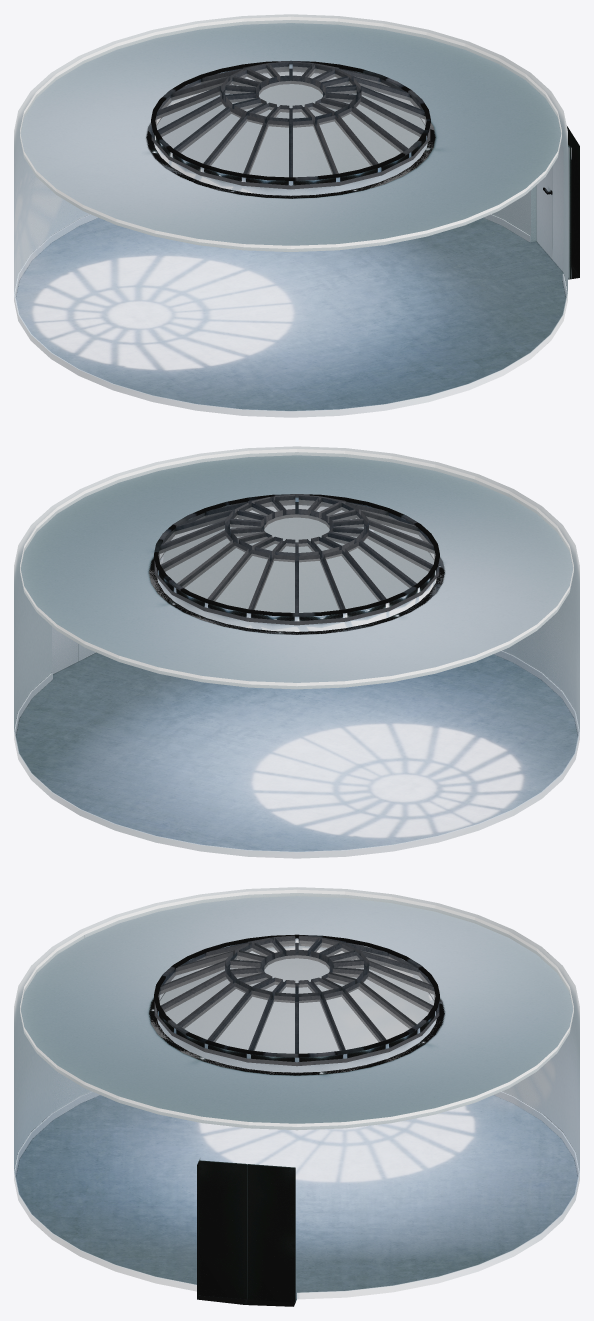
3 views of the same model, one above another, from view 1: azimuth 30°, elevation 25°; view 2: azimuth 150°, elevation 25°; view 3: azimuth 270°, elevation 25° (orthographic). The views are drawn at different scales.
Visible parts, largest first — view 1: floor_L1 Concrete Floor 1_0, celling_08 - Default_0, walls_IntPaintMatte Papyrus White_0, window_frame_Worn Pocedural 3_0, glass_Glass Fluorite Crown 5_0, walls_PVC FoamBoard White_A_0, Object006_light_0, walls_PVC FoamBoard White_0, Object105_Worn Pocedural 3_0; view 2: floor_L1 Concrete Floor 1_0, celling_08 - Default_0, walls_IntPaintMatte Papyrus White_0, window_frame_Worn Pocedural 3_0, glass_Glass Fluorite Crown 5_0, walls_PVC FoamBoard White_A_0, Object006_light_0, Object105_Worn Pocedural 3_0, walls_PVC FoamBoard White_0; view 3: celling_08 - Default_0, floor_L1 Concrete Floor 1_0, walls_IntPaintMatte Papyrus White_0, glass_Glass Fluorite Crown 5_0, window_frame_Worn Pocedural 3_0, walls_PVC FoamBoard White_0, walls_PVC FoamBoard White_A_0, Object006_light_0, Object105_Worn Pocedural 3_0.
Part boxes in pixels (bbox=[...]): floor_L1 Concrete Floor 1_0: bbox=[15, 217, 579, 410]; celling_08 - Default_0: bbox=[20, 20, 561, 251]; walls_IntPaintMatte Papyrus White_0: bbox=[14, 14, 579, 293]; window_frame_Worn Pocedural 3_0: bbox=[147, 61, 434, 198]; glass_Glass Fluorite Crown 5_0: bbox=[155, 66, 426, 176]; walls_PVC FoamBoard White_A_0: bbox=[14, 214, 567, 417]; Object006_light_0: bbox=[20, 16, 561, 248]; walls_PVC FoamBoard White_0: bbox=[536, 143, 571, 279]; Object105_Worn Pocedural 3_0: bbox=[151, 60, 430, 180]; floor_L1 Concrete Floor 1_0: bbox=[15, 652, 578, 851]; celling_08 - Default_0: bbox=[20, 452, 573, 689]; walls_IntPaintMatte Papyrus White_0: bbox=[14, 446, 579, 731]; window_frame_Worn Pocedural 3_0: bbox=[149, 494, 444, 634]; glass_Glass Fluorite Crown 5_0: bbox=[158, 500, 435, 612]; walls_PVC FoamBoard White_A_0: bbox=[14, 650, 579, 858]; Object006_light_0: bbox=[20, 449, 573, 686]; Object105_Worn Pocedural 3_0: bbox=[154, 494, 439, 616]; walls_PVC FoamBoard White_0: bbox=[52, 626, 95, 674]; celling_08 - Default_0: bbox=[20, 893, 573, 1130]; floor_L1 Concrete Floor 1_0: bbox=[15, 1095, 578, 1306]; walls_IntPaintMatte Papyrus White_0: bbox=[14, 887, 579, 1299]; glass_Glass Fluorite Crown 5_0: bbox=[158, 941, 435, 1053]; window_frame_Worn Pocedural 3_0: bbox=[150, 935, 442, 1074]; walls_PVC FoamBoard White_0: bbox=[199, 1160, 295, 1302]; walls_PVC FoamBoard White_A_0: bbox=[14, 1091, 579, 1299]; Object006_light_0: bbox=[20, 889, 573, 1126]; Object105_Worn Pocedural 3_0: bbox=[154, 934, 439, 1057].
Size of the model in its own units: 825 by 335 by 800.
